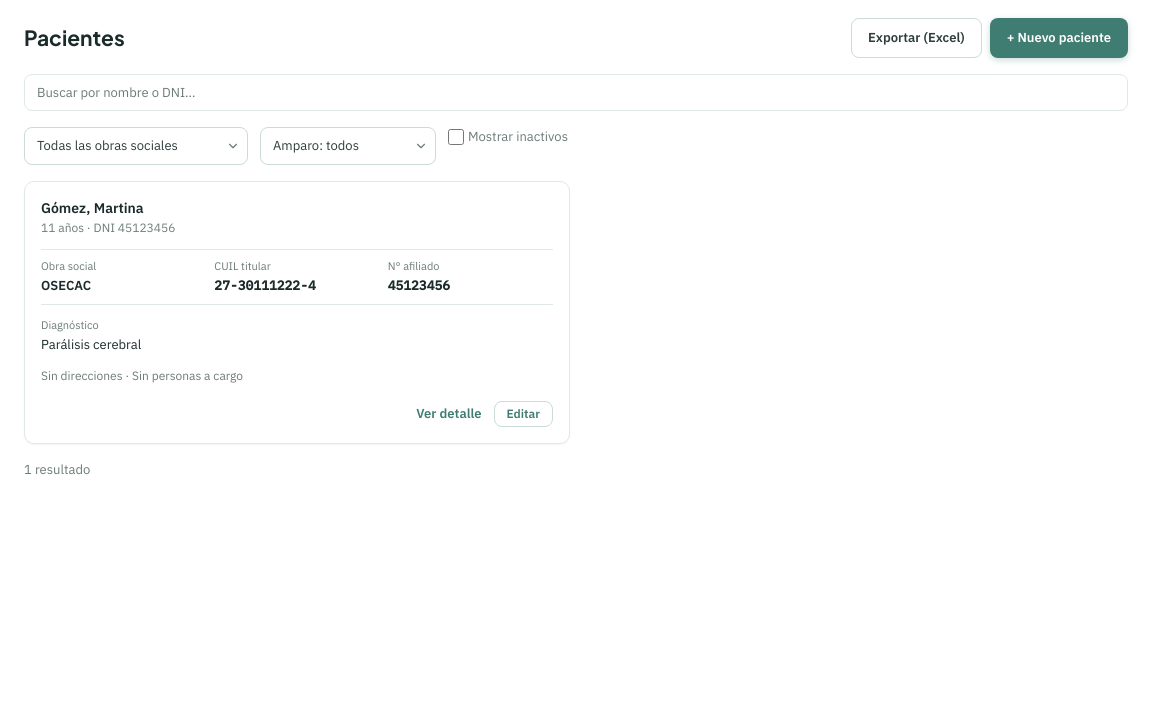
Scenario: PacientesPage — paginación server-side (13.x) › 13.7 crear un paciente nuevo muestra su ficha aunque no esté en el listado paginado recién recargado
expect the text "Gómez, Martina" is shown: met, box [41,198,144,216]
Click the button "+ Nuevo paciente" at [1059, 38], box [990,18,1128,58]
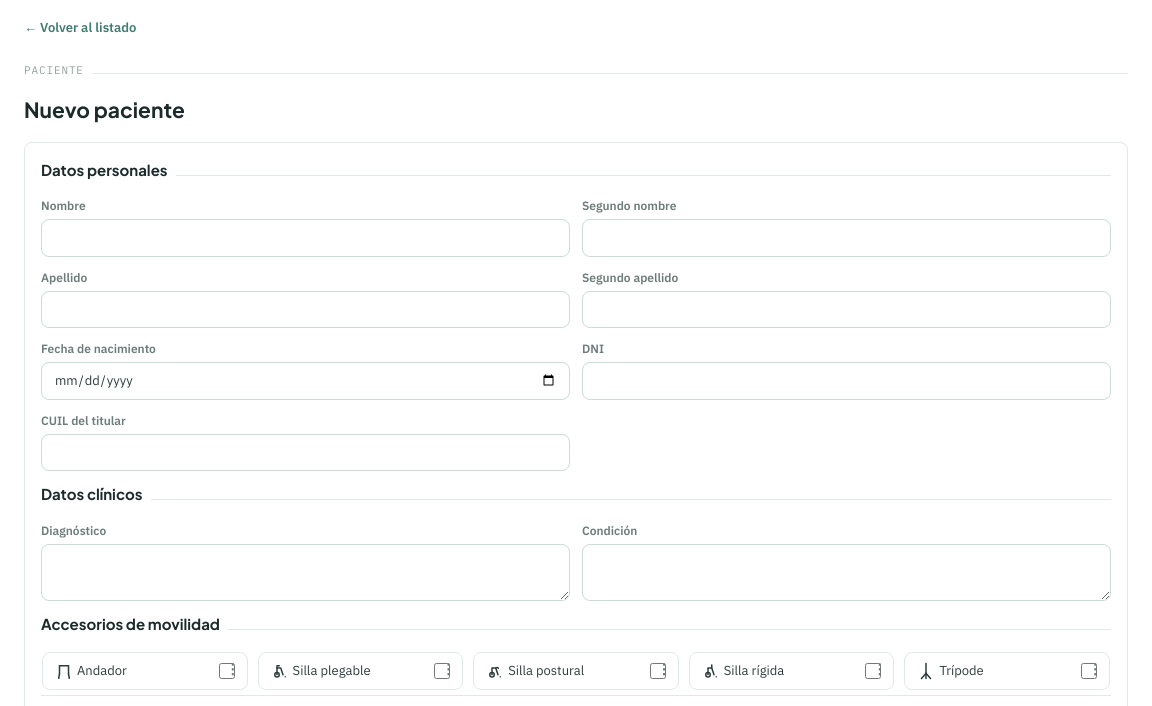
Type "Zzz-Nuevo" into the field labelled "Apellido" at [306, 309], box [41,290,570,328]
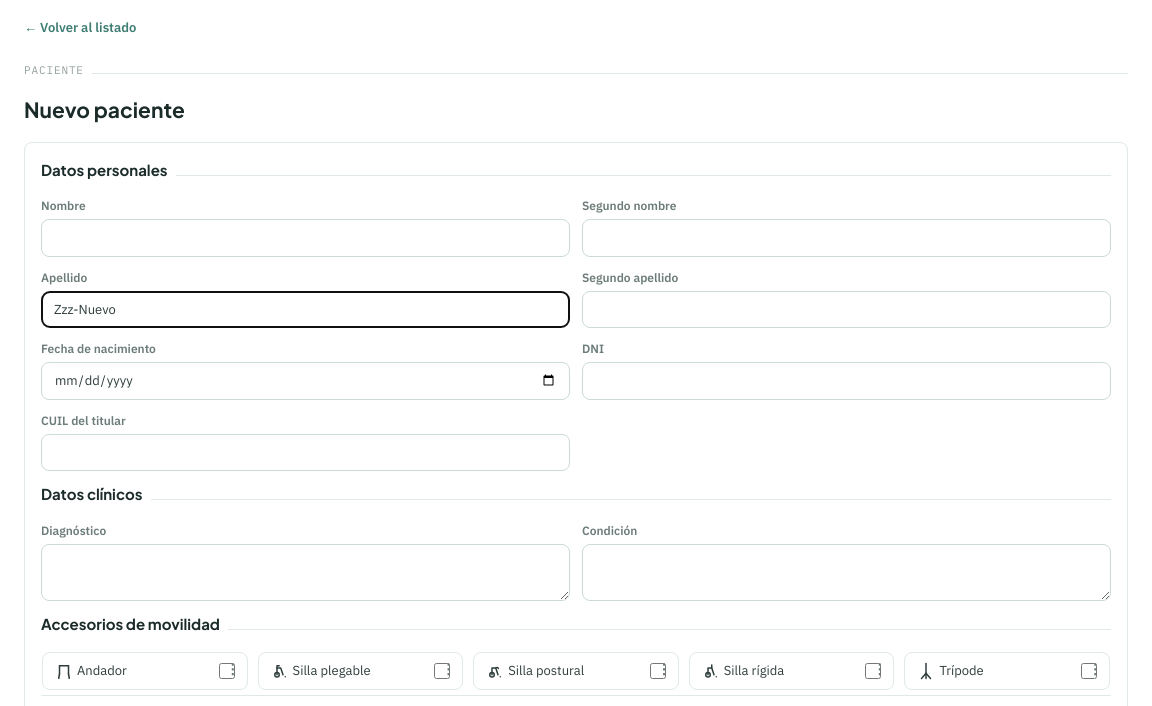
Type "Recién Creado" into the field labelled "Nombre" at [306, 238], box [41,219,570,256]
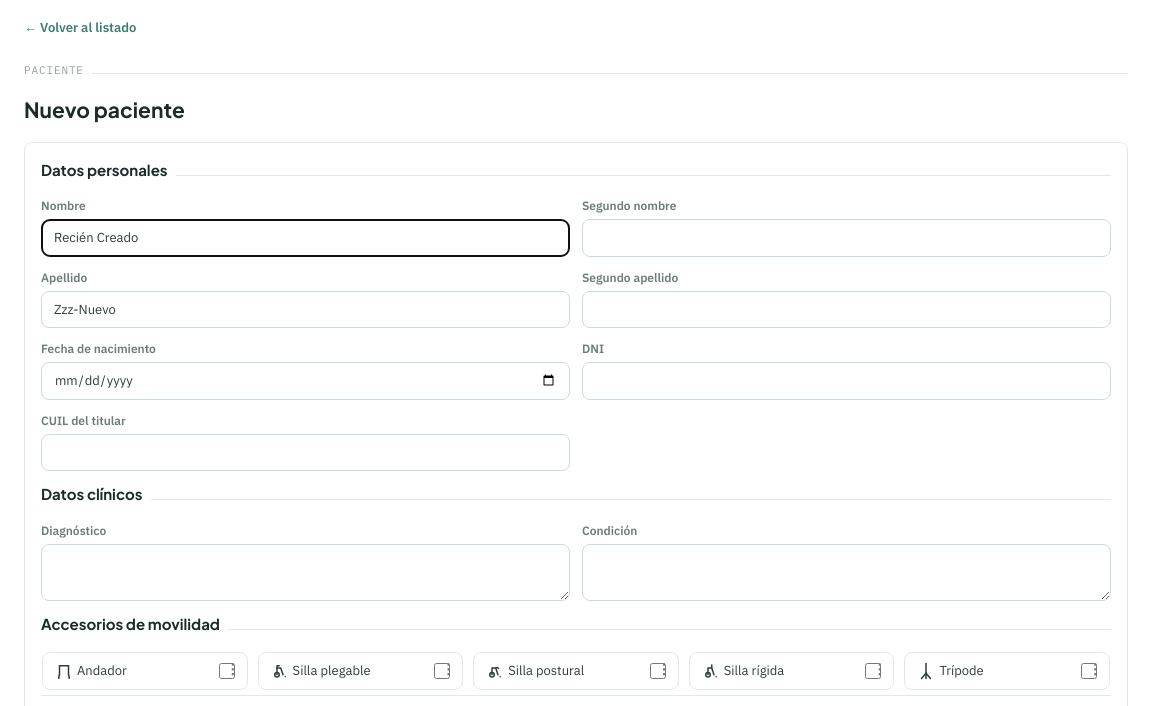
Type "45123456" into the field labelled "DNI" at [846, 381], box [582,362,1111,400]
(page scrolled)
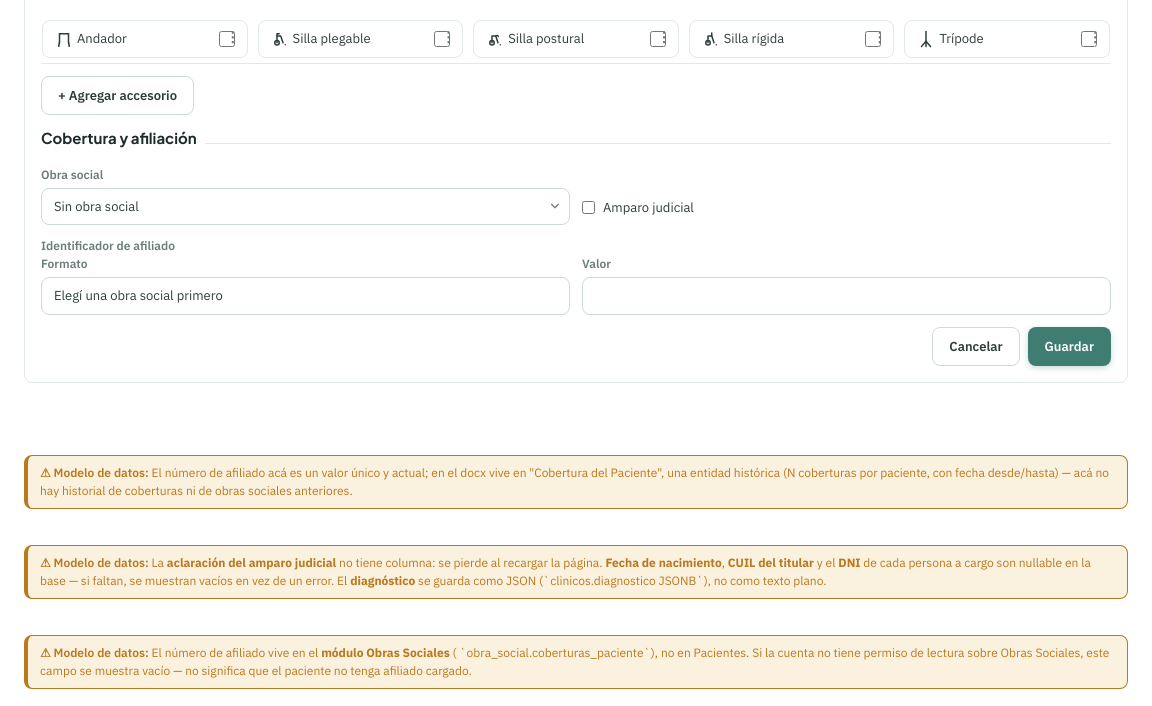
Click the button "Guardar" at [1069, 346], box [1028,326,1111,366]
(page scrolled)
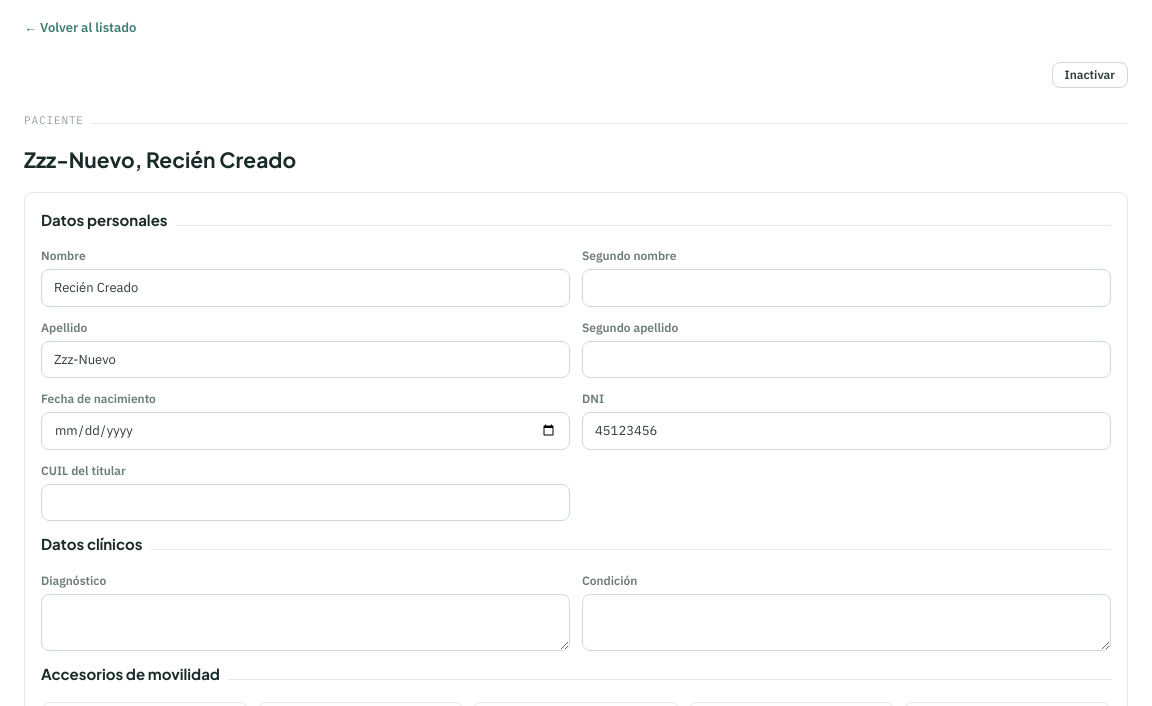
expect the heading "Zzz-Nuevo, Recién Creado" is shown: met, box [24,144,296,176]
